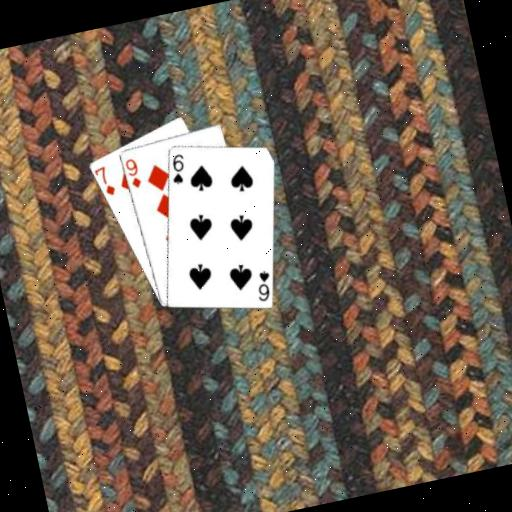6S: (249, 266, 276, 303), (164, 149, 190, 186)
7D: (91, 161, 118, 200)
9D: (121, 154, 143, 190)
